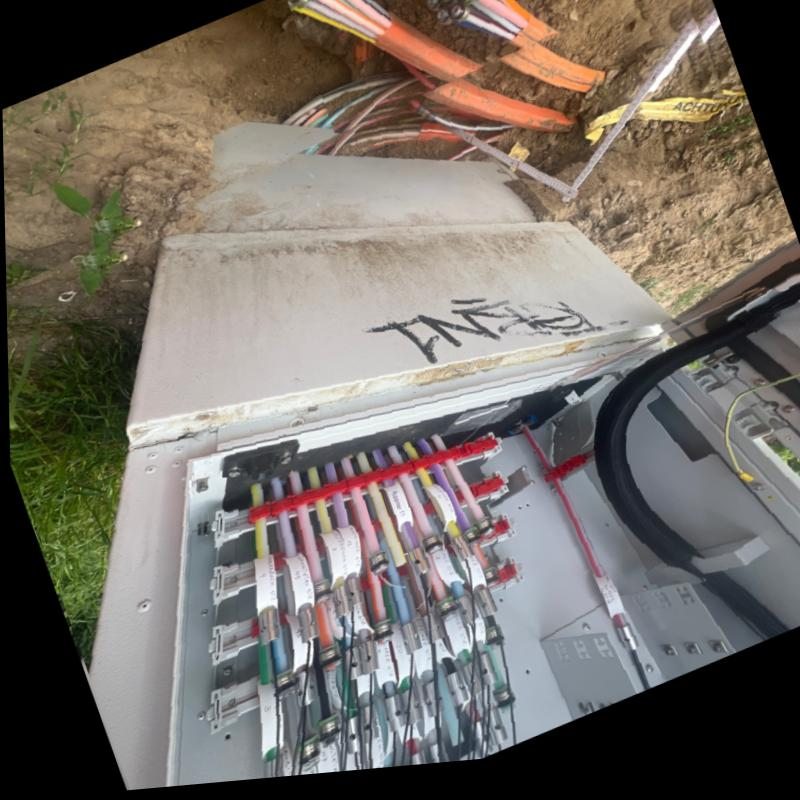NT-Gehause: (88, 199, 800, 792)
Orang-Speednetrohrchen: (286, 0, 598, 129), (430, 0, 627, 91)
